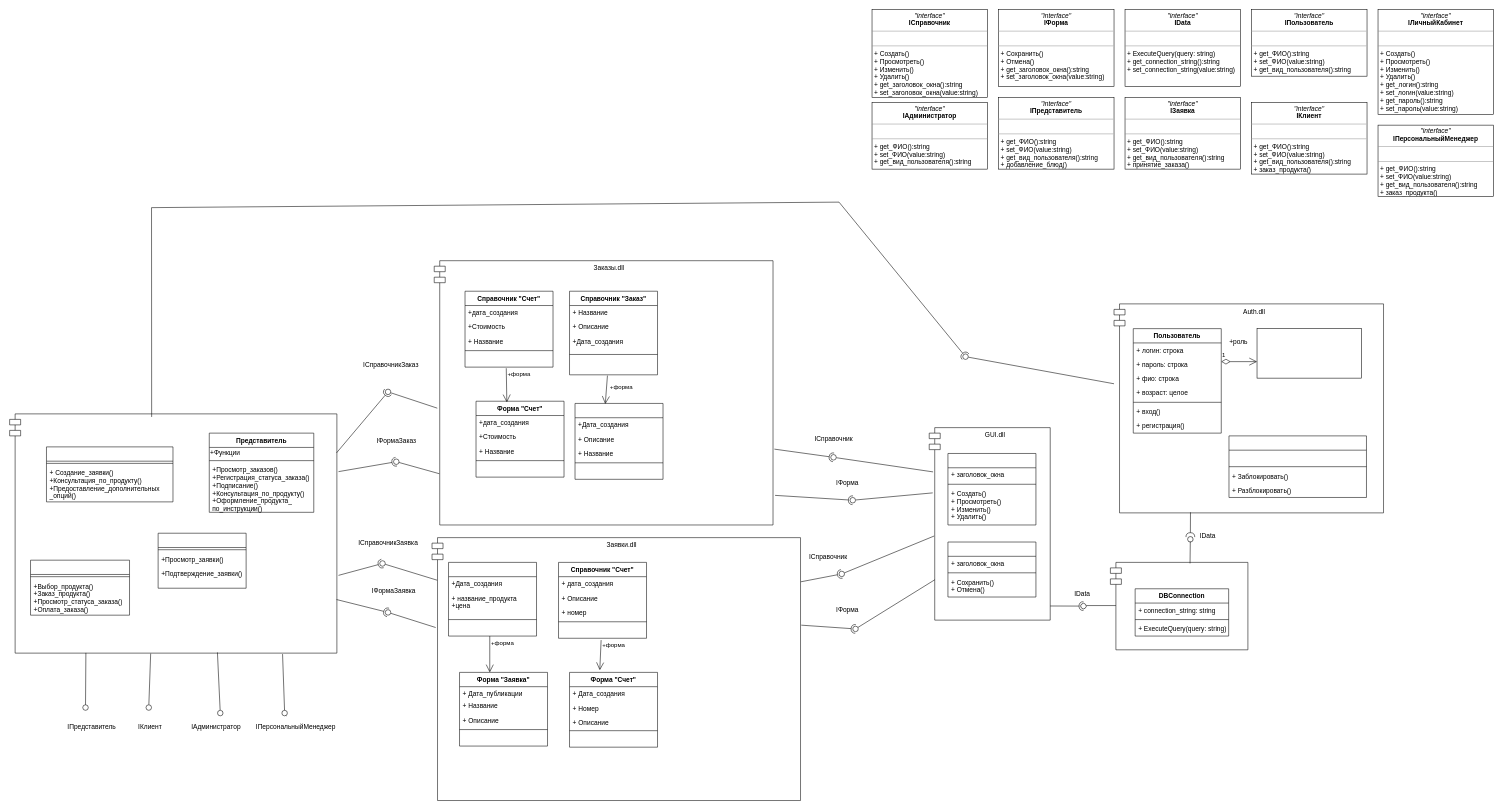
This 1503x810 diagram has some shape labels left out. Here are the shapes that lost their labels. From the top down, the box of each, then its label:
(1256, 328, 1362, 378): "abstract" Роль + выход()
(574, 403, 663, 479): Форма "Заказ"
(46, 446, 173, 502): ПерсональныйМенеджер
(1228, 435, 1366, 497): Справочник "Учётные записи"
(947, 453, 1036, 525): Справочник
(9, 413, 337, 653): Actors.dll
(158, 533, 246, 588): Администратор
(947, 541, 1036, 597): Форма
(30, 560, 130, 615): Клиент
(448, 562, 537, 636): Справочник "Заявка"
(1110, 562, 1248, 650): DB.dll
